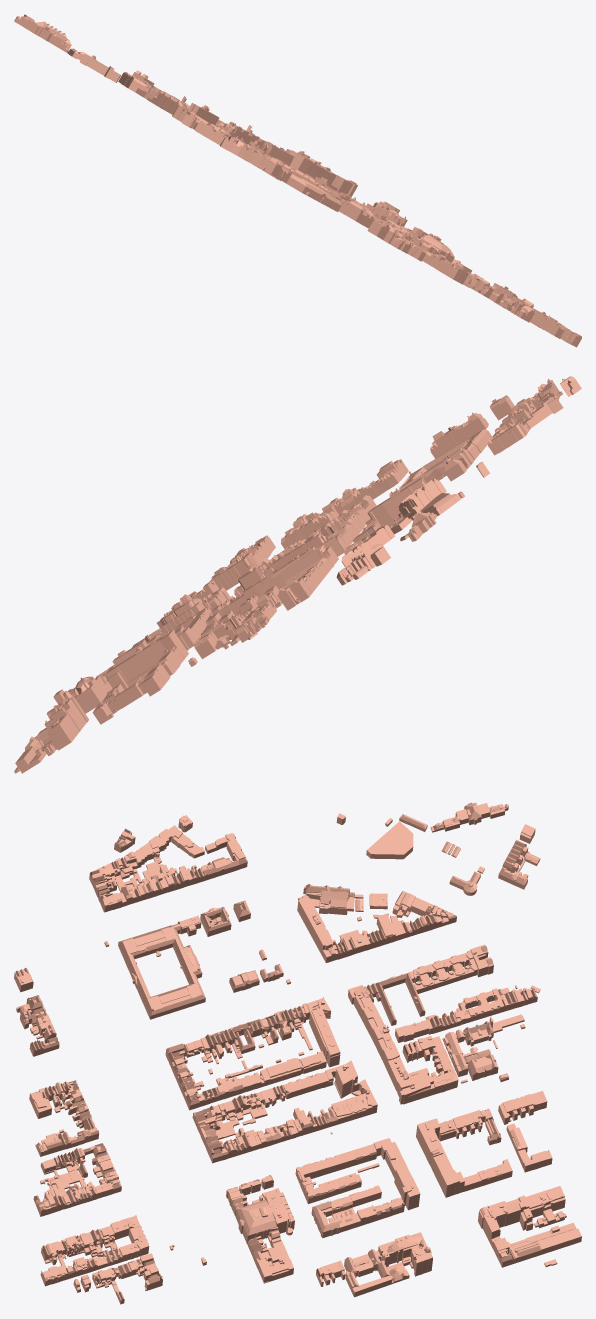
The picture shows the model from 3 angles, top to bottom: view 1: azimuth 30°, elevation 25°; view 2: azimuth 150°, elevation 25°; view 3: azimuth 270°, elevation 25°; orthographic projection. The views are drawn at different scales.
Size of the model in its own units: 1.79e+07 by 1.3e+07 by 2.16e+07.
